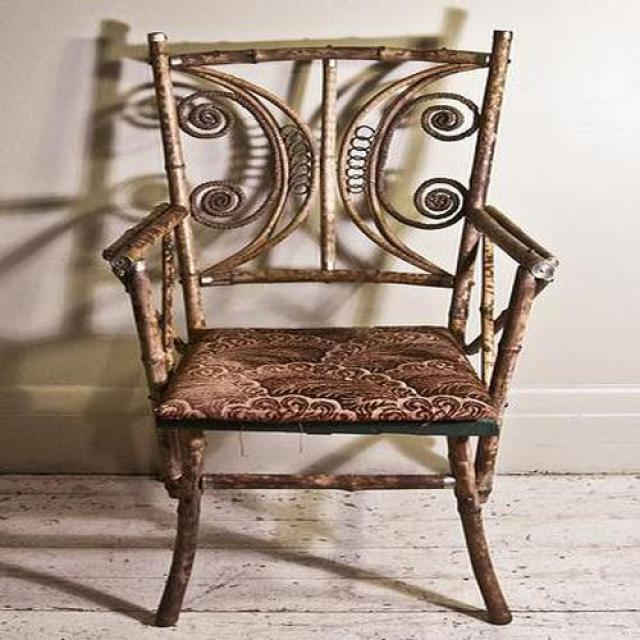chair: (104, 29, 558, 630)
